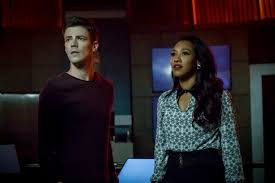Caution: (38, 15, 243, 182)
